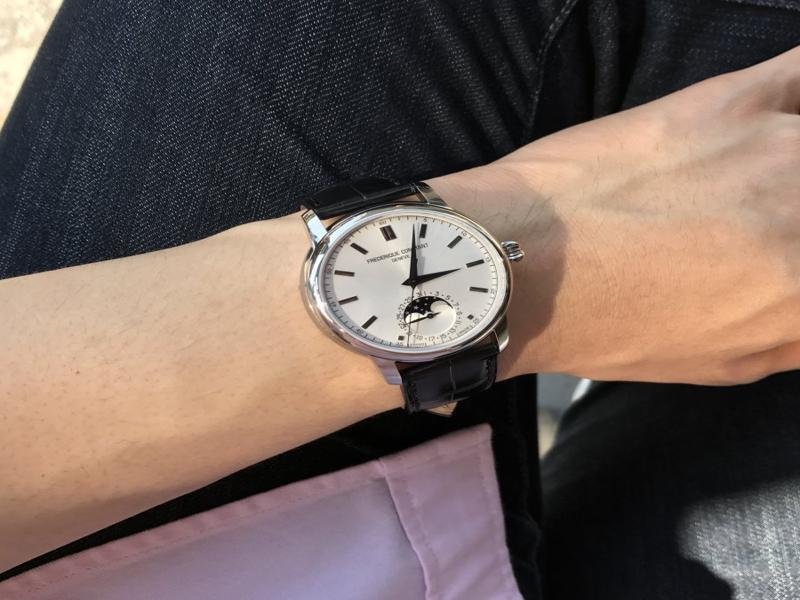watch: (299, 179, 526, 411)
